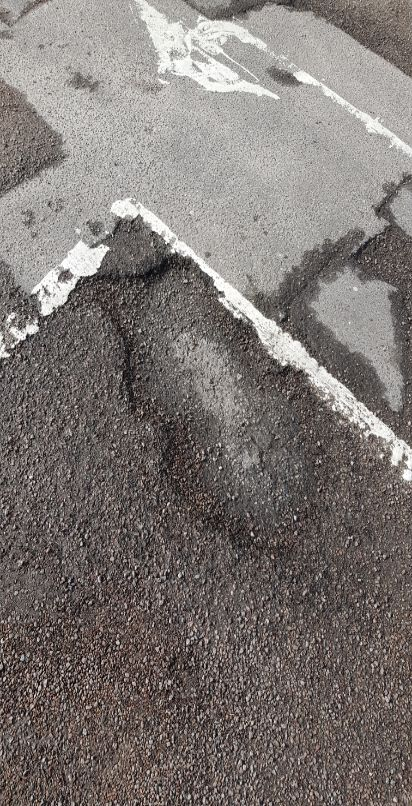pothole: (84, 245, 349, 566)
